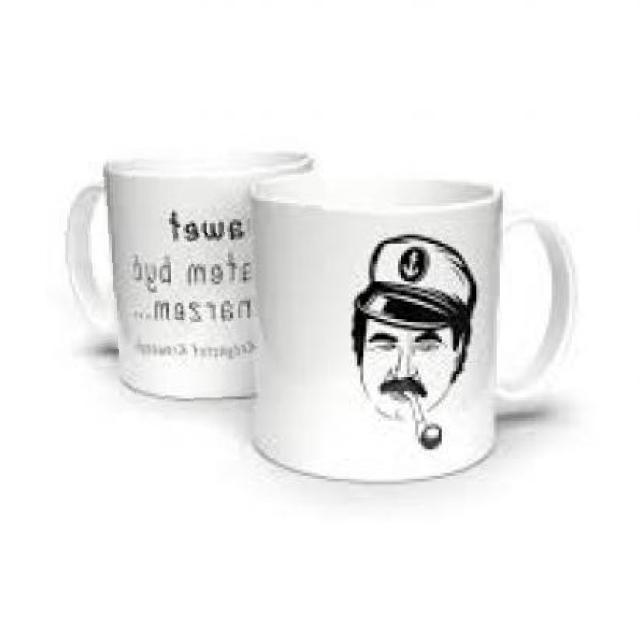cup: (247, 179, 588, 491), (53, 140, 329, 412)
